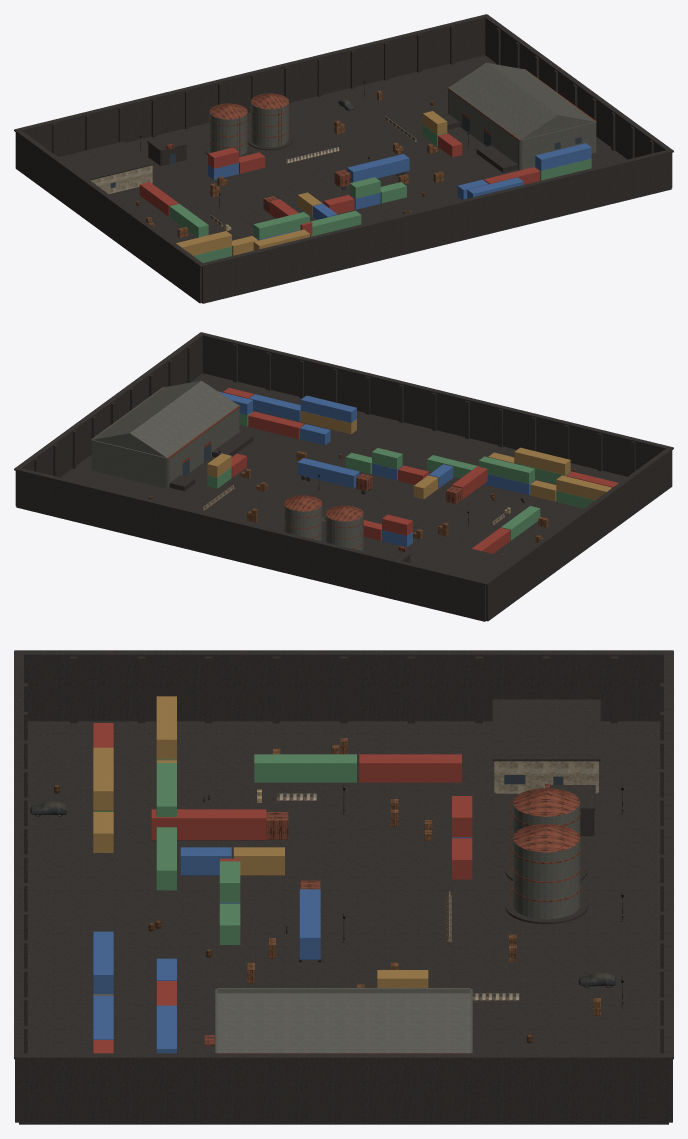
Rendered from patio.glb.
3 renders of one model, top to bottom at view 1: azimuth 30°, elevation 25°; view 2: azimuth 150°, elevation 25°; view 3: azimuth 270°, elevation 25°, orthographic. The views are drawn at different scales.
Parts seen in each view (by area): view 1: fusion_hormigon_1000_1000, fusion_hormigon_1000_998, fusion_hormigon_1000_1001, fusion_hormigon_997_1000, fusion_hormigon_1002_1000, fusion_chapa_1001_1000, fusion_chapa_1001_999, fusion_hormigon_998_1001, fusion_chapa_999_1000, fusion_cont_verde_998_999, fusion_cont_azul_1000_999, fusion_cont_verde_999_999 (+18 smaller); view 2: fusion_hormigon_1000_1000, fusion_hormigon_1000_1001, fusion_hormigon_1000_998, fusion_chapa_1001_1000, fusion_hormigon_997_1000, fusion_hormigon_1002_1000, fusion_hormigon_998_1001, fusion_cont_verde_998_999, fusion_chapa_999_1001, fusion_chapa_1001_999, fusion_cont_azul_1000_999, fusion_cont_ocre_998_999 (+20 smaller); view 3: fusion_hormigon_1000_1000, fusion_hormigon_1002_1000, fusion_hormigon_997_1000, fusion_chapa_1001_999, fusion_hormigon_998_1001, fusion_hormigon_1000_1001, fusion_hormigon_1000_998, fusion_cont_verde_998_999, fusion_cont_rojo_999_999, fusion_cont_rojo_998_1000, fusion_chapa_999_1000, fusion_chapa_999_1001 (+22 smaller).
Boxes of the visible parts, x1=… form: fusion_hormigon_1000_1000: x1=109, y1=55, x2=627, y2=242; fusion_hormigon_1000_998: x1=199, y1=149, x2=673, y2=303; fusion_hormigon_1000_1001: x1=14, y1=14, x2=488, y2=156; fusion_hormigon_997_1000: x1=14, y1=129, x2=204, y2=303; fusion_hormigon_1002_1000: x1=483, y1=14, x2=673, y2=159; fusion_chapa_1001_1000: x1=448, y1=62, x2=557, y2=156; fusion_chapa_1001_999: x1=487, y1=63, x2=595, y2=170; fusion_hormigon_998_1001: x1=52, y1=100, x2=187, y2=179; fusion_chapa_999_1000: x1=212, y1=103, x2=288, y2=155; fusion_cont_verde_998_999: x1=169, y1=203, x2=309, y2=262; fusion_cont_azul_1000_999: x1=347, y1=154, x2=488, y2=199; fusion_cont_verde_999_999: x1=309, y1=177, x2=380, y2=236; fusion_hormigon_1000_1000: x1=60, y1=373, x2=626, y2=564; fusion_hormigon_1000_1001: x1=14, y1=467, x2=487, y2=621; fusion_hormigon_1000_998: x1=202, y1=332, x2=672, y2=476; fusion_chapa_1001_1000: x1=92, y1=380, x2=239, y2=488; fusion_hormigon_997_1000: x1=483, y1=446, x2=673, y2=621; fusion_hormigon_1002_1000: x1=14, y1=332, x2=205, y2=477; fusion_hormigon_998_1001: x1=374, y1=543, x2=514, y2=580; fusion_cont_verde_998_999: x1=478, y1=456, x2=594, y2=540; fusion_chapa_999_1001: x1=284, y1=504, x2=361, y2=550; fusion_chapa_1001_999: x1=93, y1=381, x2=239, y2=456; fusion_cont_azul_1000_999: x1=297, y1=424, x2=359, y2=488; fusion_cont_ocre_998_999: x1=530, y1=475, x2=611, y2=501; fusion_hormigon_1000_1000: x1=27, y1=721, x2=660, y2=1053; fusion_hormigon_1002_1000: x1=15, y1=1053, x2=672, y2=1124; fusion_hormigon_997_1000: x1=15, y1=650, x2=672, y2=723; fusion_chapa_1001_999: x1=215, y1=989, x2=470, y2=1052; fusion_hormigon_998_1001: x1=492, y1=683, x2=663, y2=808; fusion_hormigon_1000_1001: x1=546, y1=650, x2=673, y2=1057; fusion_hormigon_1000_998: x1=14, y1=650, x2=27, y2=1057; fusion_cont_verde_998_999: x1=156, y1=754, x2=356, y2=806; fusion_cont_rojo_999_999: x1=151, y1=809, x2=266, y2=861; fusion_cont_rojo_998_1000: x1=359, y1=754, x2=461, y2=782; fusion_chapa_999_1000: x1=512, y1=803, x2=546, y2=919; fusion_chapa_999_1001: x1=546, y1=803, x2=580, y2=919.
Size of what is drawn, in the model's own units: 114 by 11.1 by 78.2.
Materials: 27 (25 with a texture image).
